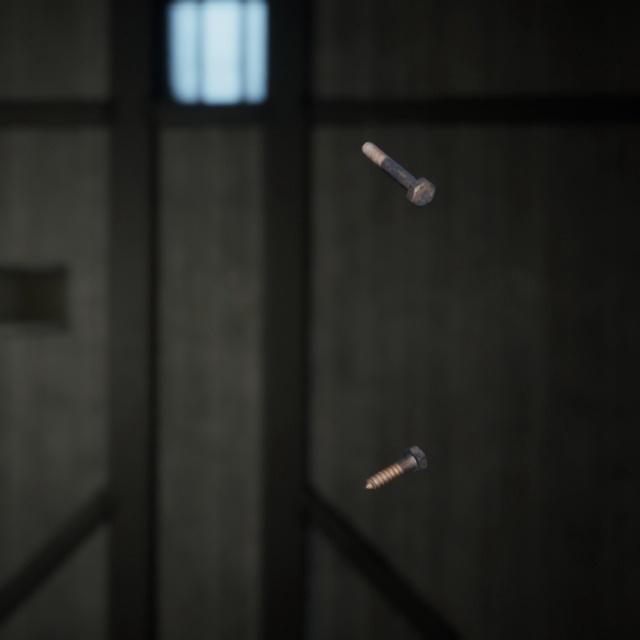bolt: (357, 124, 440, 198), (361, 421, 431, 475)
